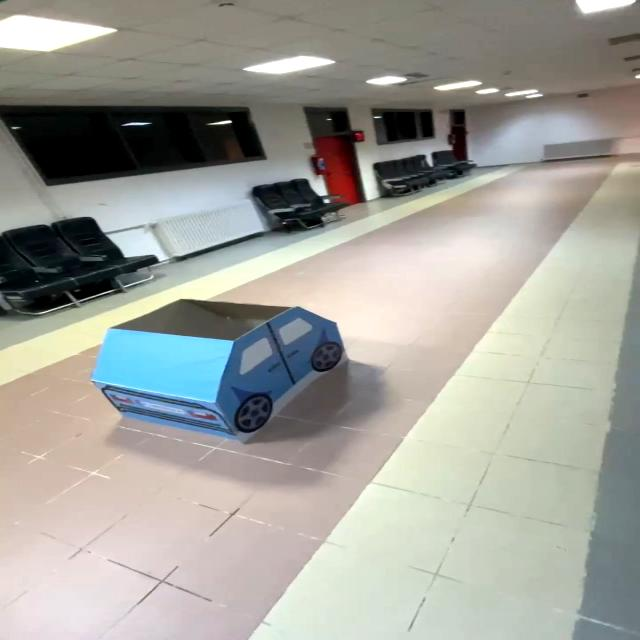blue_car: (85, 290, 370, 449)
